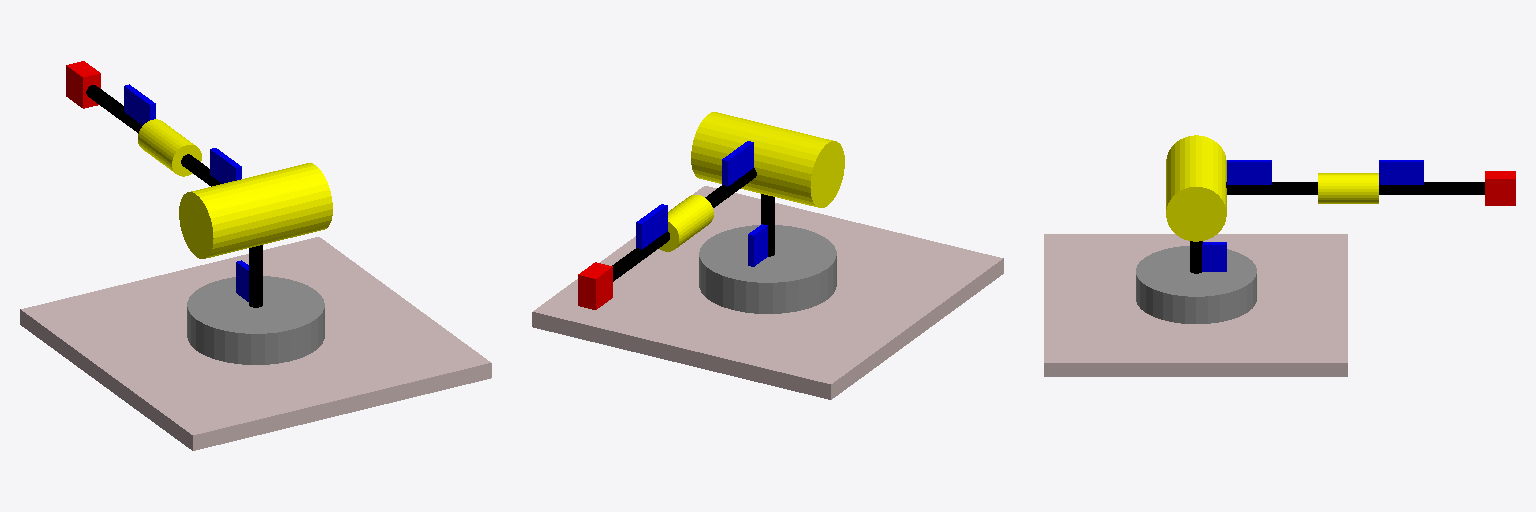
URDF robot description (pantiltroll):
<?xml version="1.0"?>

<robot name="pantiltroll">
  
  <!-- *************************************************** -->
  <!-- ******************** Kinematics ******************* -->
  <!-- *************************************************** -->
  <!-- Note the 'origin' tag in the joints defines the
       shift and reorientation before the continuous joint
       rotates around the 'axis'. -->

  <link name="world"/>

  <joint name="pan" type="continuous">
    <parent link="world"/>
    <child  link="link1"/>
    <origin xyz="0 0 0" rpy="0 0 0"/>
    <axis   xyz="0 0 1"/>
  </joint>

  <link name="link1"/>

  <joint name="tilt" type="continuous">
    <parent link="link1"/>
    <child  link="link2"/>
    <origin xyz="0 0 0" rpy="0 0 0"/>
    <axis   xyz="1 0 0"/>
  </joint>

  <link name="link2"/>

  <joint name="roll" type="continuous">
    <parent link="link2"/>
    <child  link="link3"/>
    <origin xyz="0 0.5 0" rpy="0 0 0"/>
    <axis   xyz="0 1 0"/>
  </joint>

  <link name="link3"/>

  <joint name="shifttotip" type="fixed">
    <parent link="link3"/>
    <child  link="tip"/>
    <origin xyz="0 0.5 0" rpy="0 0 0"/>
  </joint>

  <link name="tip"/>


  <!-- *************************************************** -->
  <!-- ********************* Graphics ******************** -->
  <!-- *************************************************** -->
  <!-- The following is purely to make this look roboticy. -->
  <!-- The 'origin' tag in the link/visual defines the
       center of the object (box, cylinder, sphere, mesh)
       but does not affect the joint chain kinematics. -->

  <!-- *************** Materials / Colors **************** -->

  <material name="white">    <color rgba="1.00 1.00 1.00 1"/>  </material>
  <material name="gray">     <color rgba="0.60 0.60 0.60 1"/>  </material>
  <material name="table">    <color rgba="0.85 0.77 0.77 1"/>  </material>
  <material name="black">    <color rgba="0.00 0.00 0.00 1"/>  </material>

  <material name="red">      <color rgba="1.00 0.00 0.00 1"/>  </material>
  <material name="green">    <color rgba="0.00 1.00 0.00 1"/>  </material>
  <material name="blue">     <color rgba="0.00 0.00 1.00 1"/>  </material>

  <material name="cyan">     <color rgba="0.00 1.00 1.00 1"/>  </material>
  <material name="magenta">  <color rgba="1.00 0.00 1.00 1"/>  </material>
  <material name="yellow">   <color rgba="1.00 1.00 0.00 1"/>  </material>

  <material name="orange">   <color rgba="1.00 0.65 0.00 1"/>  </material>


  <!-- *** Table - attached to world *** -->

  <joint name="attach-table" type="fixed">
    <parent link="world"/>
    <child  link="table"/>
  </joint>

  <link name="table">
    <visual>
      <origin xyz="0 0 -0.425" rpy="0 0 0"/>
      <geometry>
	<box size="1.0 1.0 0.05"/>
      </geometry>
      <material name="table"/>
    </visual>
  </link>

  <!-- *** Pan Motor - attached to world *** -->

  <joint name="attach-panmotor" type="fixed">
    <parent link="world"/>
    <child  link="panmotor"/>
  </joint>

  <link name="panmotor">
    <visual>
      <origin xyz="0 0 -0.35" rpy="0 0 0"/>
      <geometry>
	<cylinder length="0.1" radius="0.2"/>
      </geometry>
      <material name="gray"/>
    </visual>
  </link>

  <!-- *** Link 1 Bar - attached to link1 (pan joint output) *** -->

  <joint name="attach-link1bar" type="fixed">
    <parent link="link1"/>
    <child  link="link1bar"/>
  </joint>

  <link name="link1bar">
    <visual>
      <origin xyz="0 0 -0.2" rpy="0 0 0"/>
      <geometry>
	<cylinder length="0.2" radius="0.02"/>
      </geometry>
      <material name="black"/>
    </visual>
  </link>

  <!-- *** Link 1 Sail - attached to link1 (pan joint output) *** -->

  <joint name="attach-link1sail" type="fixed">
    <parent link="link1"/>
    <child  link="link1sail"/>
  </joint>

  <link name="link1sail">
    <visual>
      <origin xyz="0 0.05 -0.25" rpy="0 0 0"/>
      <geometry>
      	<box size="0.02 0.1 0.1"/>
      </geometry>
      <material name="blue"/>
    </visual>
  </link>

  <!-- *** Tilt Motor - attached to link1 (pan joint output) *** -->

  <joint name="attach-tiltmotor" type="fixed">
    <parent link="link1"/>
    <child  link="tiltmotor"/>
  </joint>

  <link name="tiltmotor">
    <visual>
      <origin xyz="0 0 0" rpy="0 1.5708 0"/>
      <geometry>
	<cylinder length="0.4" radius="0.1"/>
      </geometry>
      <material name="yellow"/>
    </visual>
  </link>

  <!-- *** Link 2 Bar - attached to link2 (tilt joint output) *** -->

  <joint name="attach-link2bar" type="fixed">
    <parent link="link2"/>
    <child  link="link2bar"/>
  </joint>

  <link name="link2bar">
    <visual>
      <origin xyz="0 0.25 0" rpy="-1.5708 0 0"/>
      <geometry>
	<cylinder length="0.5" radius="0.02"/>
      </geometry>
      <material name="black"/>
    </visual>
  </link>

  <!-- *** Link 2 Sail - attached to link2 (tilt joint output) *** -->

  <joint name="attach-link2sail" type="fixed">
    <parent link="link2"/>
    <child  link="link2sail"/>
  </joint>

  <link name="link2sail">
    <visual>
      <origin xyz="0 0.175 0.05" rpy="0 0 0"/>
      <geometry>
      	<box size="0.02 0.15 0.1"/>
      </geometry>
      <material name="blue"/>
    </visual>
  </link>

  <!-- *** Roll Motor - attached to link2 (tilt joint output) *** -->

  <joint name="attach-rollmotor" type="fixed">
    <parent link="link2"/>
    <child  link="rollmotor"/>
  </joint>

  <link name="rollmotor">
    <visual>
      <origin xyz="0 0.5 0" rpy="-1.5708 0 0"/>
      <geometry>
	<cylinder length="0.2" radius="0.05"/>
      </geometry>
      <material name="yellow"/>
    </visual>
  </link>

  <!-- *** Link 3 Bar - attached to link3 (roll joint output) *** -->

  <joint name="attach-link3bar" type="fixed">
    <parent link="link3"/>
    <child  link="link3bar"/>
  </joint>

  <link name="link3bar">
    <visual>
      <origin xyz="0 0.25 0" rpy="-1.5708 0 0"/>
      <geometry>
	<cylinder length="0.5" radius="0.02"/>
      </geometry>
      <material name="black"/>
    </visual>
  </link>

  <!-- *** Link 3 Sail - attached to link3 (roll joint output) *** -->

  <joint name="attach-link3sail" type="fixed">
    <parent link="link3"/>
    <child  link="link3sail"/>
  </joint>

  <link name="link3sail">
    <visual>
      <origin xyz="0 0.175 0.05" rpy="0 0 0"/>
      <geometry>
      	<box size="0.02 0.15 0.1"/>
      </geometry>
      <material name="blue"/>
    </visual>
  </link>

  <!-- *** Tip Box - attached to tip *** -->

  <joint name="attach-tipbox" type="fixed">
    <parent link="tip"/>
    <child  link="tipbox"/>
  </joint>

  <link name="tipbox">
    <visual>
      <origin xyz="0 0 0" rpy="0 0 0"/>
      <geometry>
      	<box size="0.06 0.1 0.1"/>
      </geometry>
      <material name="red"/>
    </visual>
  </link>

</robot>

--- Render facts (derived) ---
3 views of the same robot in one strip: view 1: azimuth 30°, elevation 25°; view 2: azimuth 150°, elevation 25°; view 3: azimuth 270°, elevation 25° (orthographic).
Robot: pantiltroll — 16 links, 15 joints (3 continuous, 12 fixed); root link world; default pose: every joint at zero.
Links seen in each view (by area): view 1: table, tiltmotor, panmotor, rollmotor, tipbox, link3sail, link1bar, link2sail, link3bar; view 2: table, panmotor, tiltmotor, rollmotor, tipbox, link2sail, link3sail, link3bar, link1sail, link1bar, link2bar; view 3: table, panmotor, tiltmotor, rollmotor, link3bar, link2sail, link3sail, tipbox, link2bar, link1sail.
Link boxes in pixels (x1,y1,x2,y2): table: [20, 237, 491, 450]; tiltmotor: [179, 163, 332, 258]; panmotor: [187, 276, 324, 364]; rollmotor: [138, 119, 201, 176]; tipbox: [66, 61, 100, 108]; link3sail: [124, 84, 155, 125]; link1bar: [249, 245, 262, 307]; link2sail: [210, 148, 241, 183]; link3bar: [86, 85, 141, 133]; table: [532, 186, 1003, 399]; panmotor: [699, 225, 836, 313]; tiltmotor: [691, 112, 844, 207]; rollmotor: [659, 195, 713, 251]; tipbox: [578, 262, 612, 309]; link2sail: [722, 141, 753, 186]; link3sail: [636, 204, 667, 249]; link3bar: [612, 231, 669, 281]; link1sail: [748, 224, 767, 266]; link1bar: [761, 194, 774, 256]; link2bar: [705, 168, 756, 207]; table: [1044, 234, 1347, 376]; panmotor: [1136, 246, 1256, 323]; tiltmotor: [1166, 135, 1226, 241]; rollmotor: [1318, 173, 1378, 203]; link3bar: [1379, 182, 1484, 194]; link2sail: [1227, 160, 1271, 184]; link3sail: [1379, 160, 1423, 184]; tipbox: [1485, 171, 1515, 205]; link2bar: [1226, 182, 1317, 194]; link1sail: [1202, 242, 1226, 271].
Size in the robot's own frame: 1 by 1.55 by 0.55 metres.
Geometry: primitives only (box / cylinder / sphere), no mesh files.
